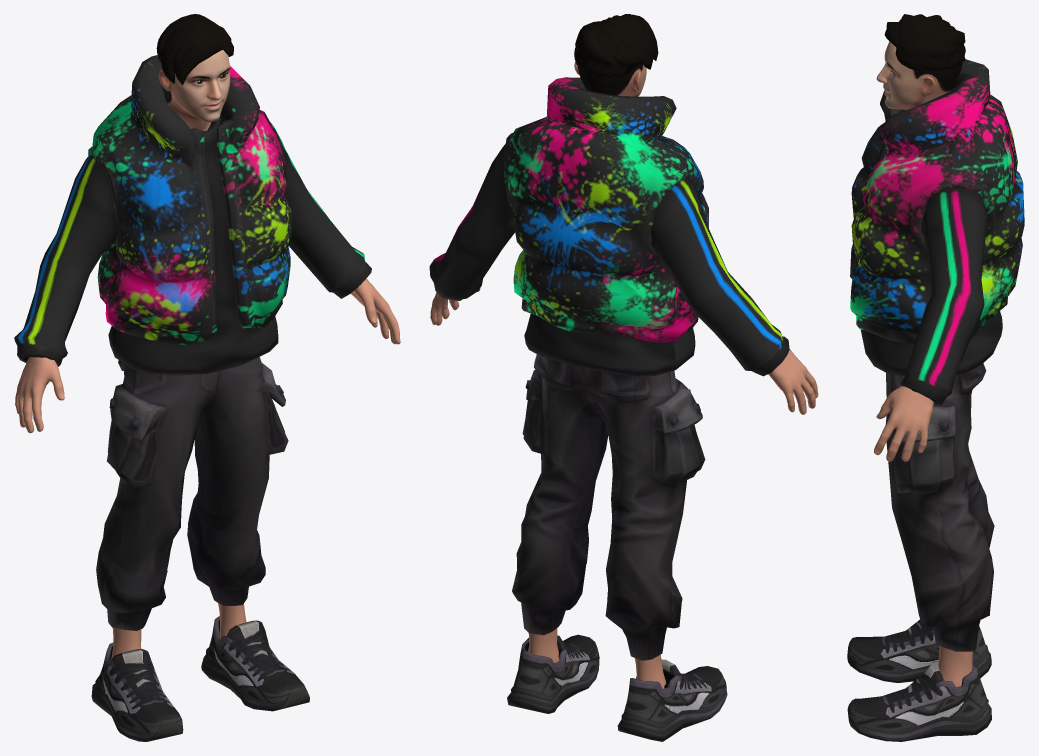
The picture shows the model from 3 angles, left to right: view 1: azimuth 30°, elevation 25°; view 2: azimuth 150°, elevation 25°; view 3: azimuth 270°, elevation 25°; orthographic projection.
Visible parts, largest first — view 1: node_50a68613_d7ab_4fa3_b9fa_a12c1b1cda34_mesh0; view 2: node_50a68613_d7ab_4fa3_b9fa_a12c1b1cda34_mesh0; view 3: node_50a68613_d7ab_4fa3_b9fa_a12c1b1cda34_mesh0.
Part boxes in pixels (x1,y1,x2,y2): node_50a68613_d7ab_4fa3_b9fa_a12c1b1cda34_mesh0: (14, 14, 400, 741); node_50a68613_d7ab_4fa3_b9fa_a12c1b1cda34_mesh0: (429, 14, 818, 741); node_50a68613_d7ab_4fa3_b9fa_a12c1b1cda34_mesh0: (847, 14, 1024, 741).
Bounding box in the file's own units: 106 × 186 × 43.86.
1 material, 1 textured.
